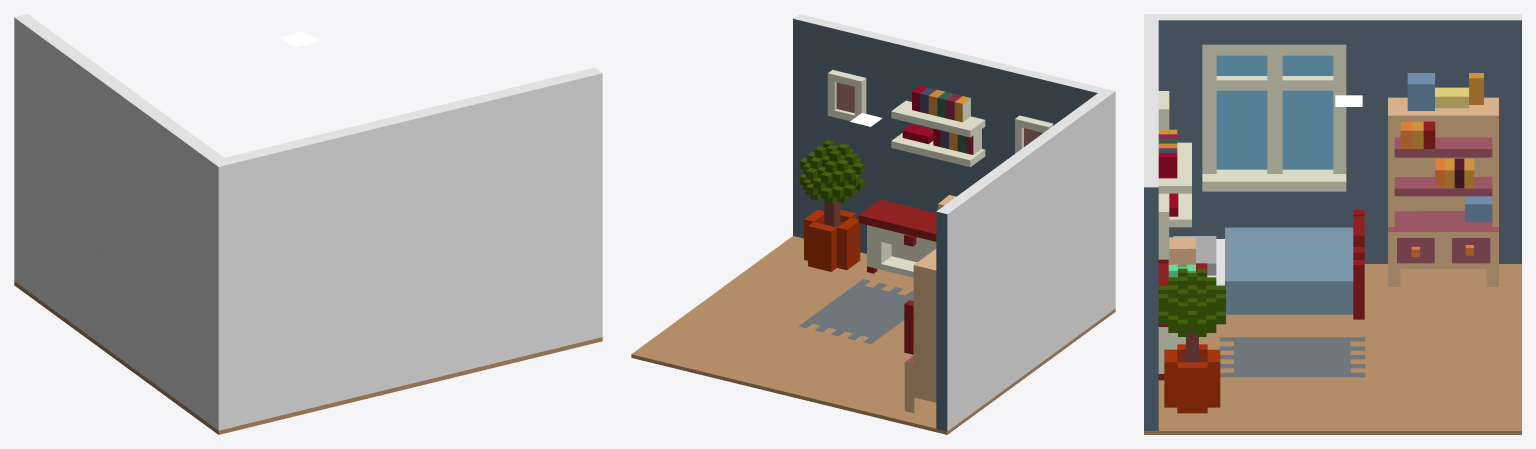
File: bedroom2_v5.gltf
3 renders of one model, left to right at view 1: azimuth 30°, elevation 25°; view 2: azimuth 150°, elevation 25°; view 3: azimuth 270°, elevation 25°, orthographic. The views are drawn at different scales.
Parts seen in each view (by area): view 1: Object_24, Object_5; view 2: Object_24, Object_25, Object_5, Object_31, Object_19, Object_3, Object_6, Object_28, Object_33, Object_27, Object_34, Object_26; view 3: Object_25, Object_5, Object_22, Object_7, Object_19, Object_8, Object_18, Object_31, Object_3, Object_24, Object_6, Object_28 (+12 smaller).
Boxes of the visible parts, x1,y1,x2,y2 form: Object_24: [14, 14, 602, 430]; Object_5: [14, 281, 602, 434]; Object_24: [793, 14, 1115, 431]; Object_25: [793, 19, 1097, 431]; Object_5: [631, 236, 1115, 434]; Object_31: [827, 69, 1053, 167]; Object_19: [904, 249, 936, 413]; Object_3: [798, 279, 913, 343]; Object_6: [799, 140, 864, 204]; Object_28: [804, 209, 860, 271]; Object_33: [858, 199, 936, 340]; Object_27: [867, 225, 936, 277]; Object_34: [902, 85, 940, 146]; Object_26: [836, 82, 1041, 146]; Object_25: [1144, 20, 1521, 430]; Object_5: [1144, 264, 1521, 434]; Object_22: [1225, 227, 1353, 314]; Object_7: [1216, 55, 1333, 169]; Object_19: [1388, 97, 1498, 286]; Object_8: [1202, 44, 1346, 173]; Object_18: [1388, 137, 1498, 263]; Object_31: [1158, 76, 1346, 259]; Object_3: [1219, 337, 1365, 377]; Object_24: [1144, 14, 1521, 187]; Object_6: [1158, 268, 1225, 336]; Object_28: [1164, 344, 1220, 413].
Bounding box in the file's own units: 15 × 10 × 13.83.
